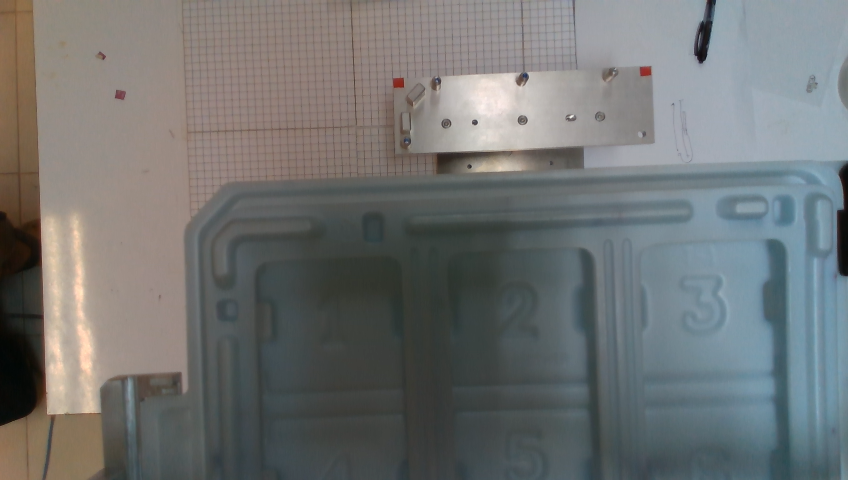red: (639, 66, 652, 76), (393, 78, 404, 88)
